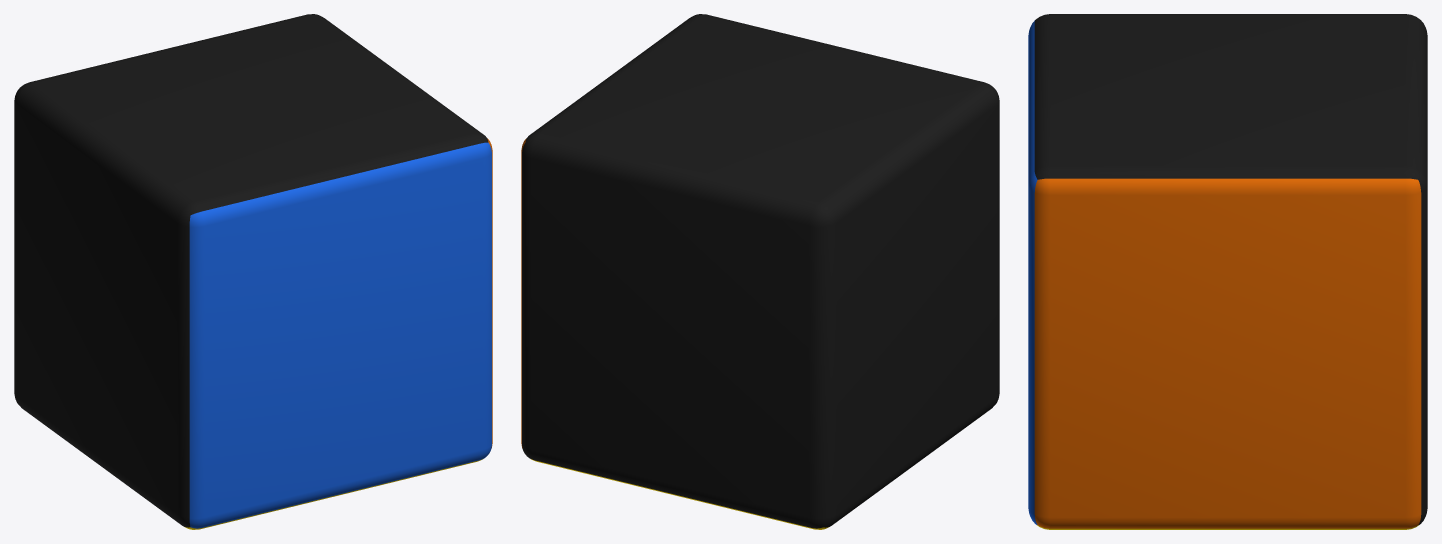
The model's file is yob_corner.glb.
The picture shows the model from 3 angles, left to right: view 1: azimuth 30°, elevation 25°; view 2: azimuth 150°, elevation 25°; view 3: azimuth 270°, elevation 25°; orthographic projection. The views are drawn at different scales.
Parts seen in each view (by area): view 1: Cube.020; view 2: Cube.020; view 3: Cube.020.
Part boxes in pixels (x1,y1,x2,y2): Cube.020: (14, 14, 492, 529); Cube.020: (521, 14, 999, 529); Cube.020: (1028, 14, 1427, 529).
Size of the model in its own units: 2 by 2 by 2.
